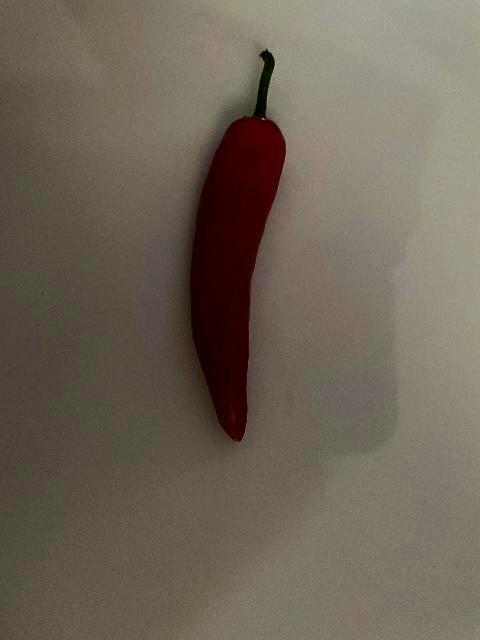chilli: (189, 49, 285, 443)
